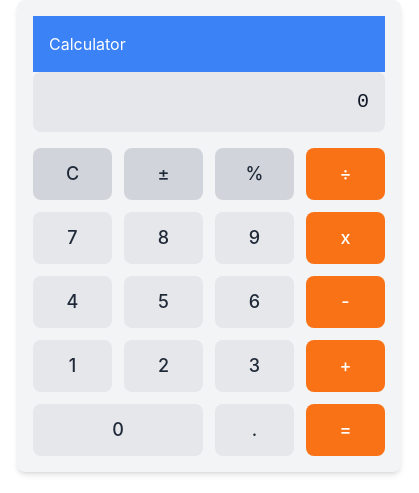
Calculator › should perform a calculation when pressing = button
Click the button "8": point(164, 238) [124,212,203,264]
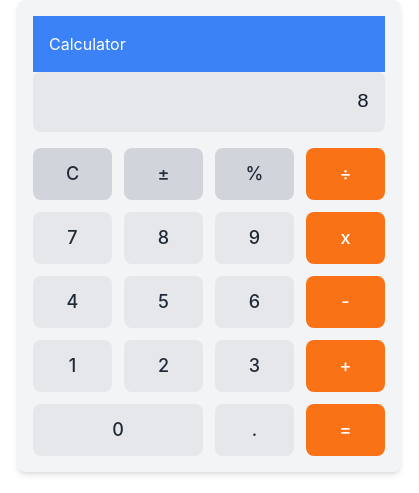
Click the button "x": point(346, 238) [306,212,385,264]
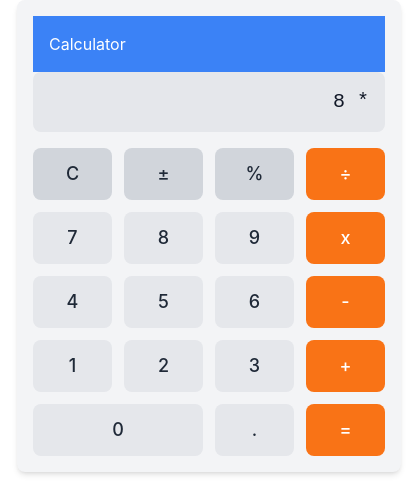
Click the button "2": point(164, 366) [124,340,203,392]
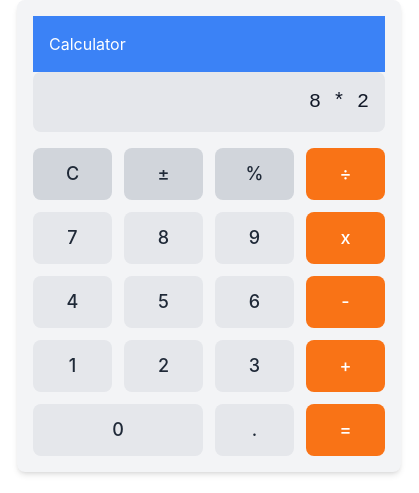
Click the button with test id "equalButton": point(346, 430) [306,404,385,456]
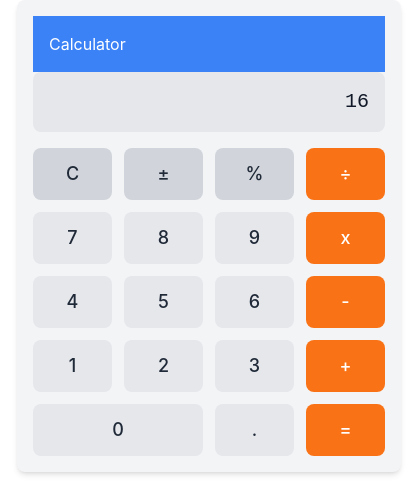
Now the text with test id "calcDisplay" reads "16", box [345,90,369,113]
